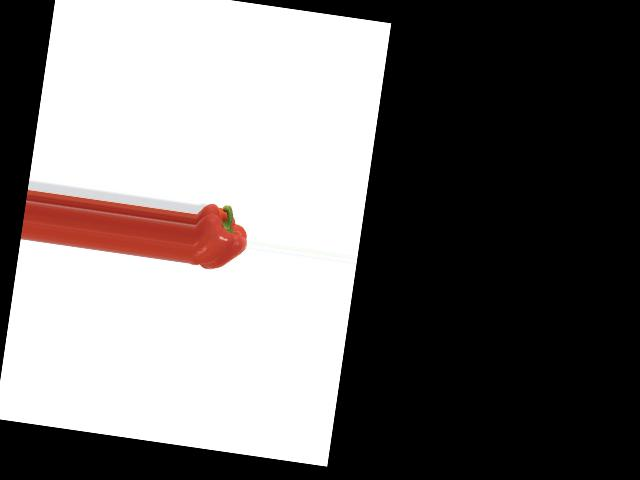bell_pepper: (188, 192, 253, 281)
